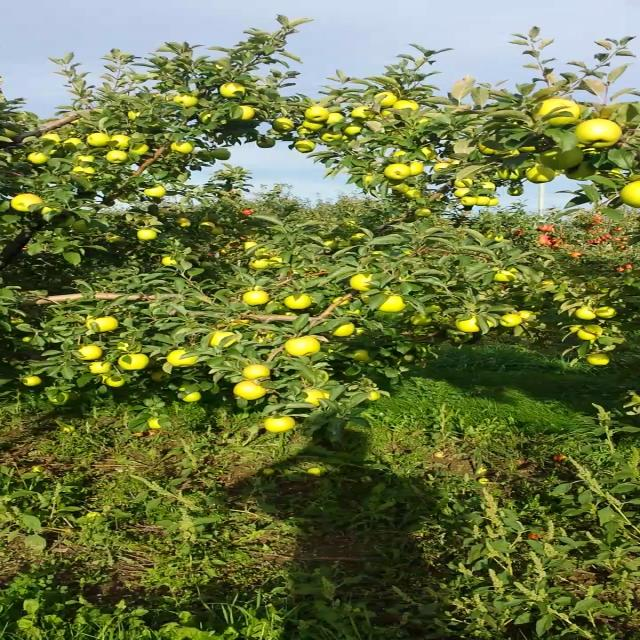apple: (532, 99, 578, 127), (576, 118, 620, 145), (538, 146, 582, 168), (284, 336, 318, 355), (10, 193, 44, 211), (234, 380, 264, 400), (524, 165, 554, 183), (207, 332, 239, 348), (566, 163, 596, 180), (168, 349, 198, 366), (621, 181, 639, 209), (376, 296, 407, 312), (86, 316, 116, 332), (117, 353, 147, 369), (70, 345, 100, 360), (243, 290, 271, 306), (303, 389, 331, 405), (455, 315, 480, 332), (384, 164, 410, 180), (285, 294, 311, 310), (350, 272, 372, 290), (265, 418, 293, 432), (47, 392, 78, 404), (304, 107, 327, 123), (242, 365, 268, 379), (87, 133, 112, 147), (498, 168, 524, 181), (270, 118, 294, 132), (116, 341, 144, 353), (105, 150, 128, 164), (170, 141, 196, 153), (491, 268, 517, 280), (374, 92, 396, 106), (574, 307, 596, 321), (111, 135, 131, 150), (55, 214, 76, 228), (220, 84, 244, 96), (172, 94, 196, 106), (318, 131, 342, 143), (391, 99, 419, 109), (476, 142, 496, 156), (418, 146, 438, 160), (332, 321, 352, 335), (497, 148, 520, 160), (499, 314, 522, 326), (410, 314, 433, 326), (70, 218, 89, 232), (294, 140, 316, 152), (341, 123, 361, 136), (36, 206, 62, 216), (61, 138, 82, 150), (324, 112, 344, 124), (27, 153, 47, 165), (594, 169, 623, 177), (144, 186, 165, 197), (517, 310, 536, 322), (90, 362, 109, 374), (238, 105, 252, 121), (596, 307, 616, 318), (586, 354, 608, 364), (350, 106, 368, 118), (212, 148, 230, 160), (389, 183, 407, 195), (353, 349, 371, 361), (302, 120, 323, 130), (135, 230, 155, 240), (345, 232, 365, 242), (250, 259, 270, 269), (105, 375, 123, 386), (198, 111, 212, 125), (406, 162, 422, 174), (268, 256, 284, 268), (130, 144, 149, 154), (477, 181, 496, 191), (150, 371, 169, 381), (181, 392, 200, 402), (40, 134, 61, 143), (578, 329, 596, 339), (21, 376, 39, 386), (317, 369, 329, 383), (458, 196, 474, 206), (161, 256, 177, 266), (229, 318, 249, 326), (404, 189, 419, 199), (78, 154, 96, 162), (453, 178, 471, 186), (452, 187, 468, 196), (331, 297, 349, 305), (127, 110, 141, 120), (475, 195, 489, 205), (105, 236, 125, 243), (147, 418, 161, 428), (73, 166, 96, 172), (416, 117, 433, 125), (296, 126, 311, 135), (256, 139, 272, 147), (322, 240, 338, 248), (350, 328, 366, 336), (360, 292, 369, 306), (432, 163, 447, 171), (484, 197, 497, 206), (414, 209, 430, 216), (244, 242, 258, 250), (339, 240, 350, 250), (626, 173, 639, 181), (519, 146, 536, 152), (391, 151, 408, 157), (508, 188, 522, 195), (540, 279, 556, 285), (345, 310, 361, 316), (569, 324, 581, 332), (370, 392, 380, 400), (177, 218, 188, 225), (212, 227, 222, 234), (20, 336, 31, 342), (199, 222, 215, 226), (450, 159, 462, 164)
